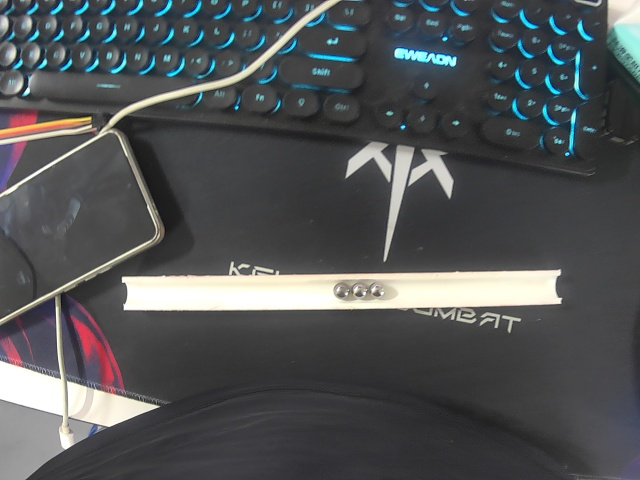steelball: (332, 281, 350, 299), (369, 282, 387, 300), (351, 282, 369, 299)
